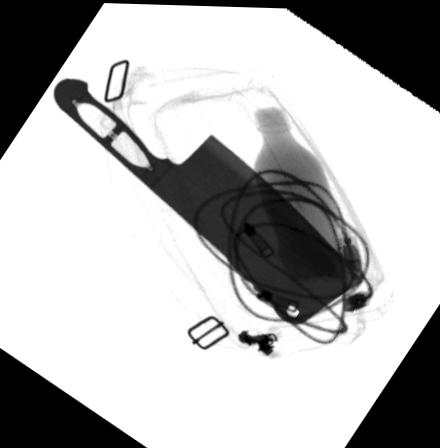Knife: (49, 73, 369, 325)
